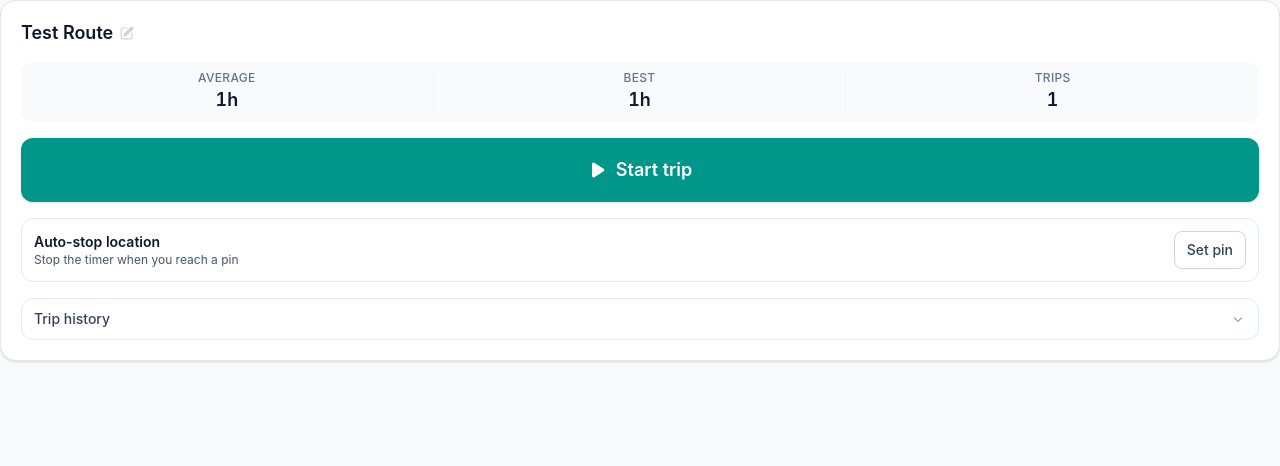
RouteCard editing functionality › edit mode state transitions and UI updates › should display error message when validation fails
# Enter edit mode
Click the button with aria-label "edit route name: test route" at (78, 33), box [17,21,139,46]
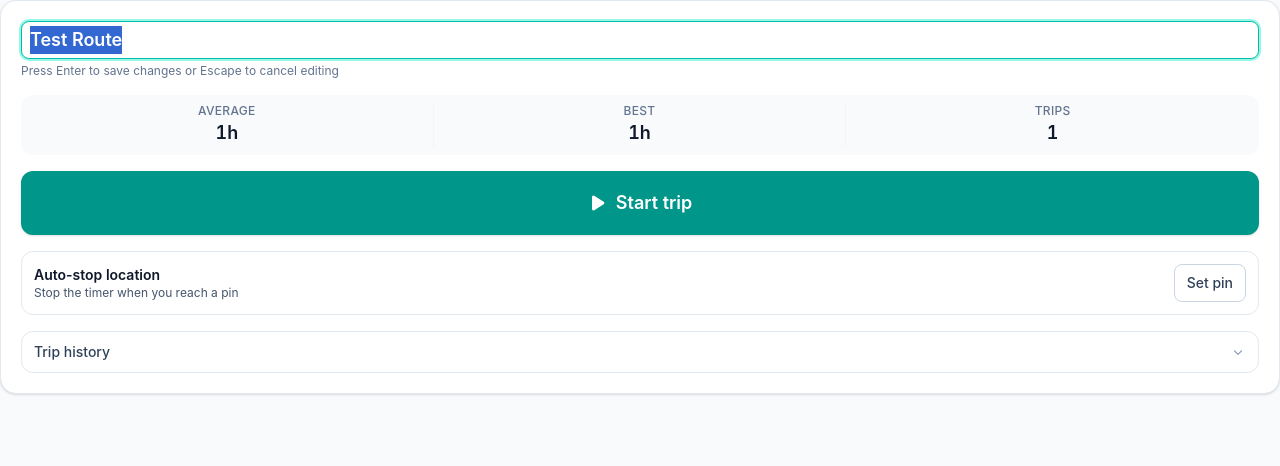
# Try to submit empty name
Clear the field named "route name input field" at (640, 40), box [21,21,1259,59]
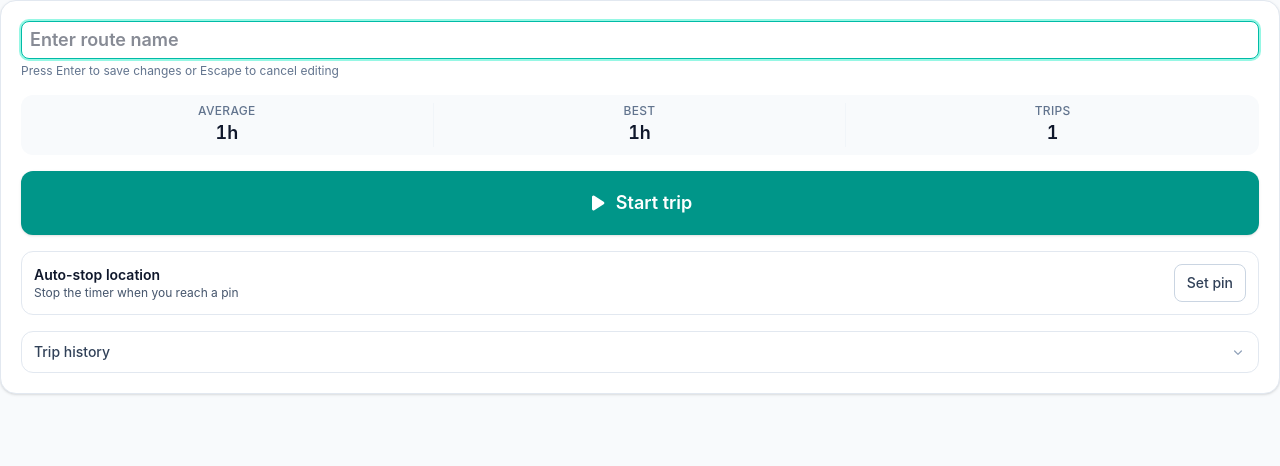
Press Enter
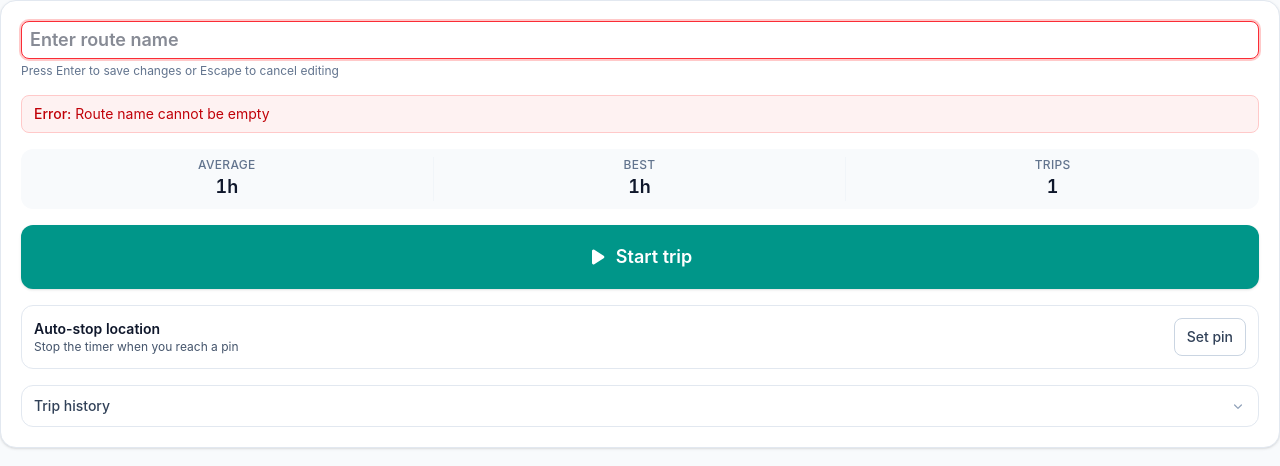
Expected: the text "Error: Route name cannot be empty" is shown, [21,95,1259,133]
